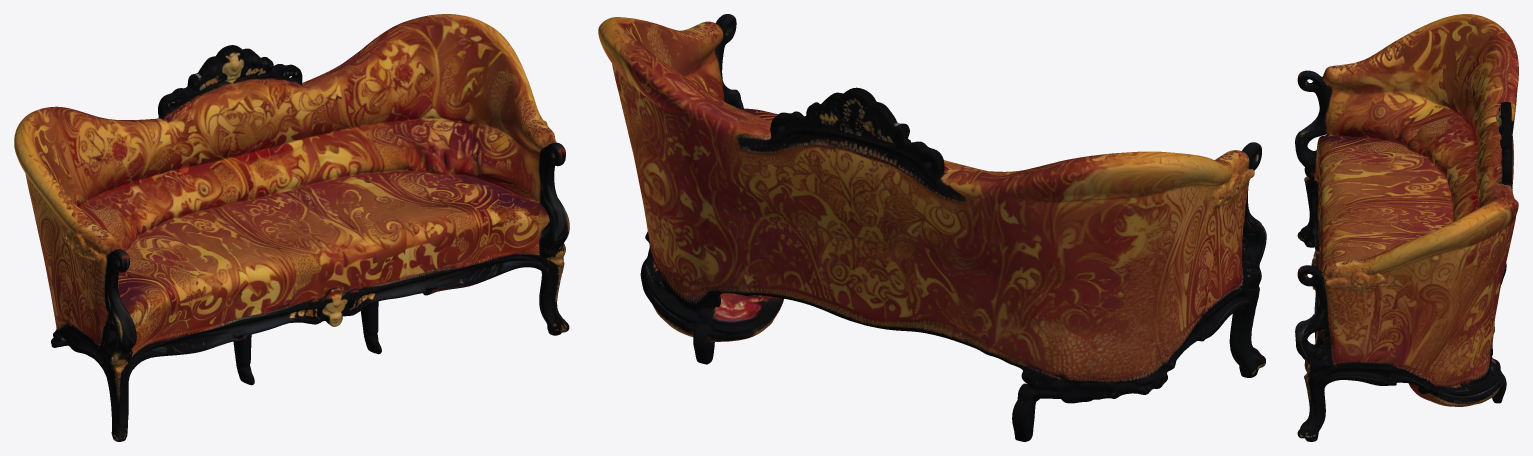
The model's file is m-sofa-stylized.glb.
3 renders of one model, left to right at view 1: azimuth 30°, elevation 25°; view 2: azimuth 150°, elevation 25°; view 3: azimuth 270°, elevation 25°, orthographic. The views are drawn at different scales.
Parts seen in each view (by area): view 1: tripo_node_0f07adf0-6467-48d4-96b6-043d731b5753; view 2: tripo_node_0f07adf0-6467-48d4-96b6-043d731b5753; view 3: tripo_node_0f07adf0-6467-48d4-96b6-043d731b5753.
Boxes of the visible parts, left/top/right/bottom form: tripo_node_0f07adf0-6467-48d4-96b6-043d731b5753: left=14, top=14, right=569, bottom=441; tripo_node_0f07adf0-6467-48d4-96b6-043d731b5753: left=598, top=14, right=1266, bottom=441; tripo_node_0f07adf0-6467-48d4-96b6-043d731b5753: left=1295, top=14, right=1518, bottom=441.
Bounding box in the file's own units: 1.59 × 0.8149 × 0.6909.
1 material, 1 textured.
